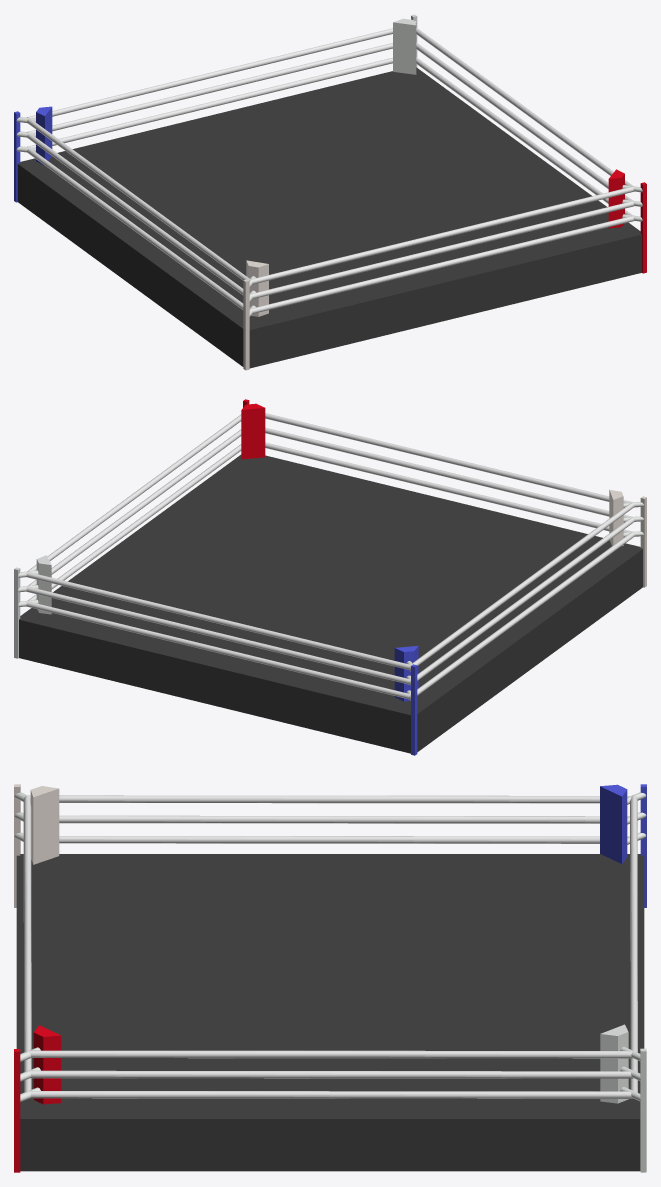
File: Boxing Ring.fbx
3 views of the same model, one above another, from view 1: azimuth 30°, elevation 25°; view 2: azimuth 150°, elevation 25°; view 3: azimuth 270°, elevation 25° (orthographic). The views are drawn at different scales.
Parts seen in each view (by area): view 1: Cube, Cylinder.010, Cylinder.011, Cylinder.009, Cylinder.005, Cylinder.003, Cylinder.004, Cylinder.008, Cylinder.006, Cylinder.007, Cylinder, Cylinder.001 (+5 smaller); view 2: Cube, Cylinder.004, Cylinder.005, Cylinder.003, Cylinder.011, Cylinder.009, Cylinder.010, Cylinder.008, Cylinder.006, Cylinder.007, Cylinder, Cylinder.001 (+6 smaller); view 3: Cube, Cylinder, Cylinder.001, Cylinder.002, Cylinder.008, Cylinder.007, Cylinder.006, Cube.001, Cylinder.009, Cylinder.005, Cube.005, Cube.010 (+5 smaller).
Part boxes in pixels (left/top/right/bottom): Cube: left=17, top=67, right=641, bottom=368; Cylinder.010: left=249, top=216, right=634, bottom=313; Cylinder.011: left=249, top=201, right=634, bottom=298; Cylinder.009: left=250, top=186, right=634, bottom=284; Cylinder.005: left=27, top=28, right=392, bottom=118; Cylinder.003: left=27, top=43, right=392, bottom=133; Cylinder.004: left=27, top=57, right=392, bottom=147; Cylinder.008: left=27, top=118, right=250, bottom=280; Cylinder.006: left=27, top=148, right=249, bottom=309; Cylinder.007: left=27, top=134, right=243, bottom=295; Cylinder: left=416, top=27, right=633, bottom=186; Cylinder.001: left=416, top=42, right=632, bottom=201; Cube: left=19, top=454, right=642, bottom=753; Cylinder.004: left=26, top=601, right=410, bottom=699; Cylinder.005: left=26, top=572, right=410, bottom=669; Cylinder.003: left=26, top=586, right=410, bottom=684; Cylinder.011: left=265, top=427, right=632, bottom=517; Cylinder.009: left=265, top=413, right=633, bottom=502; Cylinder.010: left=265, top=442, right=633, bottom=532; Cylinder.008: left=411, top=502, right=634, bottom=665; Cylinder.006: left=417, top=532, right=634, bottom=695; Cylinder.007: left=417, top=517, right=634, bottom=680; Cylinder: left=27, top=414, right=241, bottom=571; Cylinder.001: left=28, top=429, right=241, bottom=585; Cube: left=16, top=854, right=644, bottom=1171; Cylinder: left=28, top=1050, right=632, bottom=1058; Cylinder.001: left=29, top=1070, right=632, bottom=1078; Cylinder.002: left=28, top=1091, right=632, bottom=1098; Cylinder.008: left=28, top=795, right=630, bottom=803; Cylinder.007: left=59, top=815, right=628, bottom=823; Cylinder.006: left=59, top=836, right=629, bottom=843; Cube.001: left=14, top=1025, right=61, bottom=1172; Cylinder.009: left=23, top=795, right=31, bottom=1052; Cylinder.005: left=630, top=795, right=637, bottom=1052; Cube.005: left=33, top=788, right=59, bottom=864; Cube.010: left=600, top=786, right=621, bottom=863.
Size of the model in its own units: 1342 by 300 by 1342.
